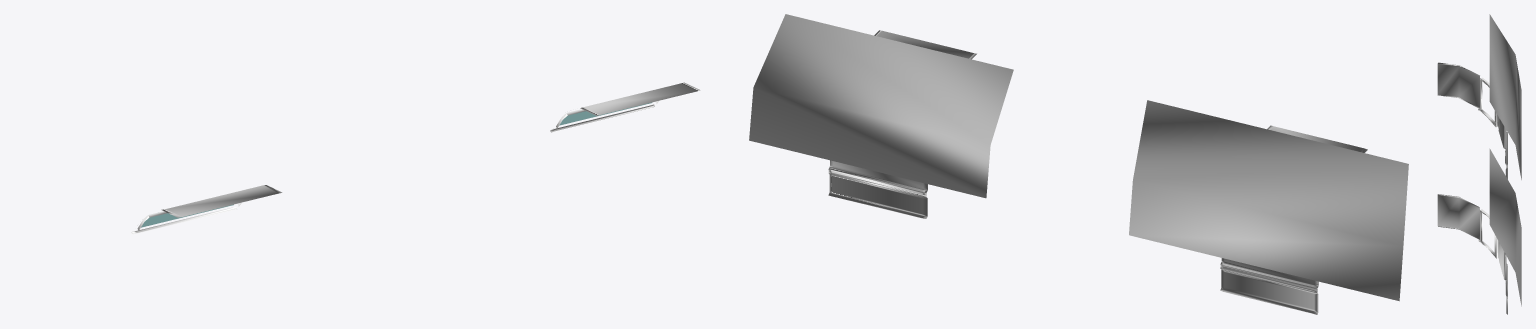
Rendered from SouthWall_clean_business_arch_uee_01_center.glb.
3 views of the same model, side by side, from view 1: azimuth 30°, elevation 25°; view 2: azimuth 150°, elevation 25°; view 3: azimuth 270°, elevation 25° (orthographic). The views are drawn at different scales.
Size of the model in its own units: 66.5 by 15.67 by 10.83.
